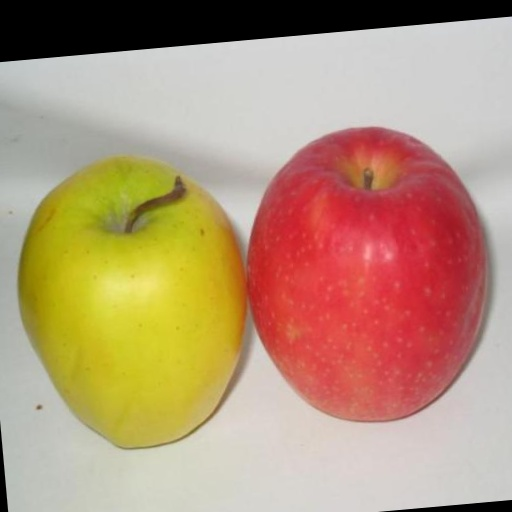fruit: (248, 127, 486, 420), (18, 156, 247, 447)
